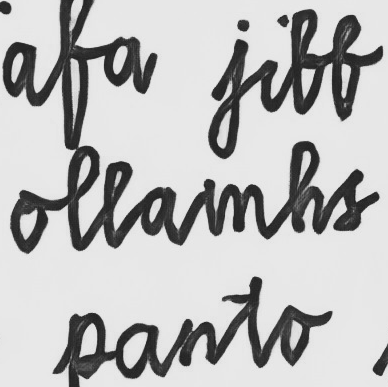a: (139, 183, 181, 239)
h: (287, 139, 326, 235)
l: (65, 144, 100, 253), (102, 160, 137, 251)
m: (200, 177, 267, 237)
o: (7, 187, 50, 255)
s: (330, 167, 367, 234)
